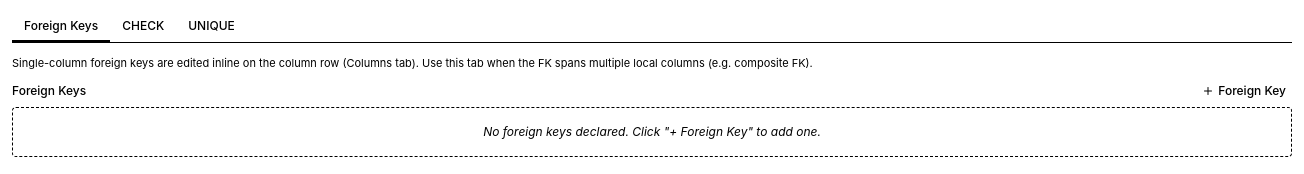
Test: ForeignKeysTabBody › renders the three constraint family sub-tabs in the empty state
Expected: the button with aria-label "Add foreign key" is shown, [1196,79,1292,103]
Step 1. Click the tab "CHECK" → x=143, y=27, box [110,12,176,42]
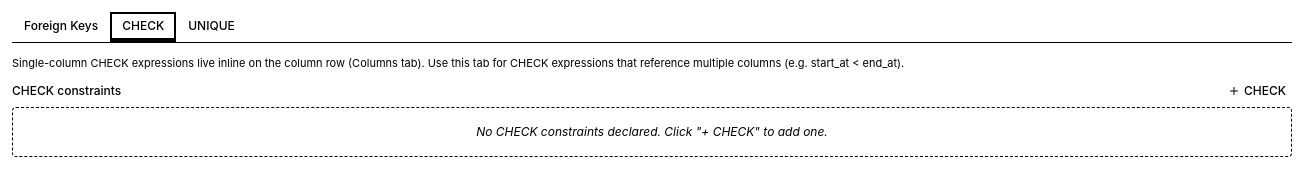
Result: the button with aria-label "Add check" is shown at [1222,79,1292,103]
Step 2. Click the tab "UNIQUE" → x=212, y=27, box [176,12,247,42]
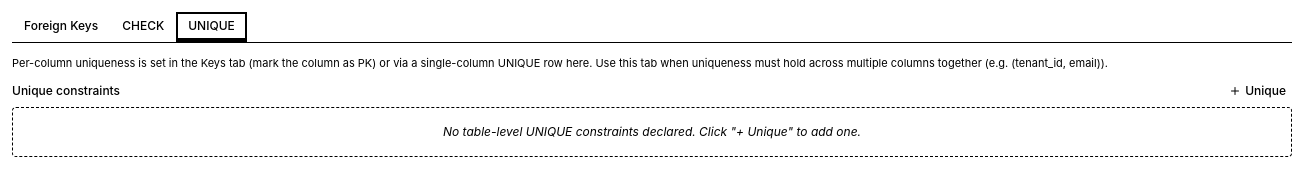
Result: the button with aria-label "Add unique" is shown at [1223,79,1292,103]
